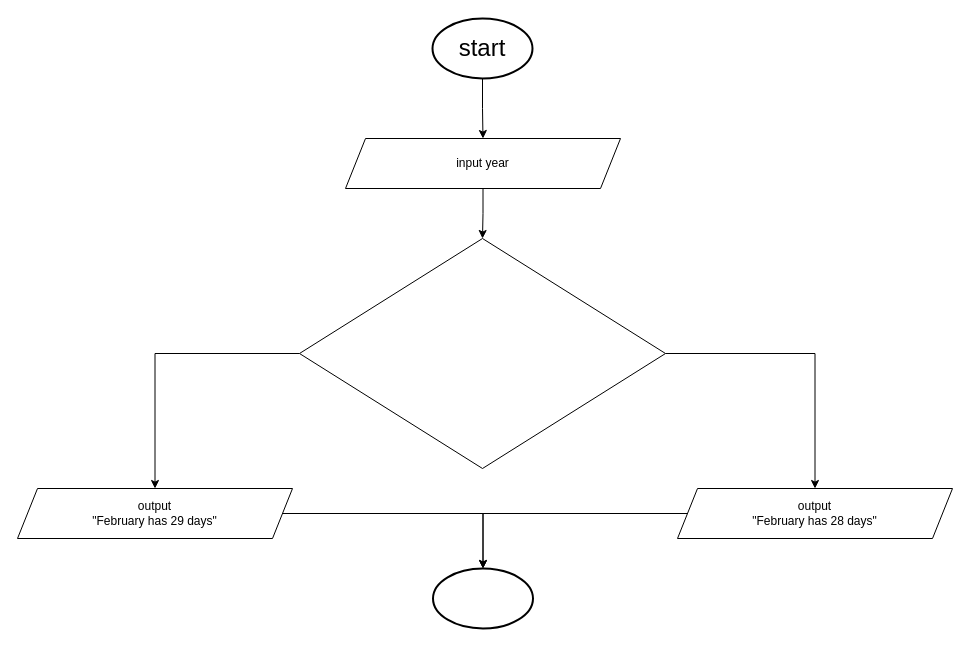
Some shapes in this 970 by 646 pixel diagram are drawn without their labels. Each missing label, with the centre of its shape:
end: the point at 483,598
if ((year % 4 == 0 && year % 100 != 0) || (year % 400 == 0)): the point at 482,353
